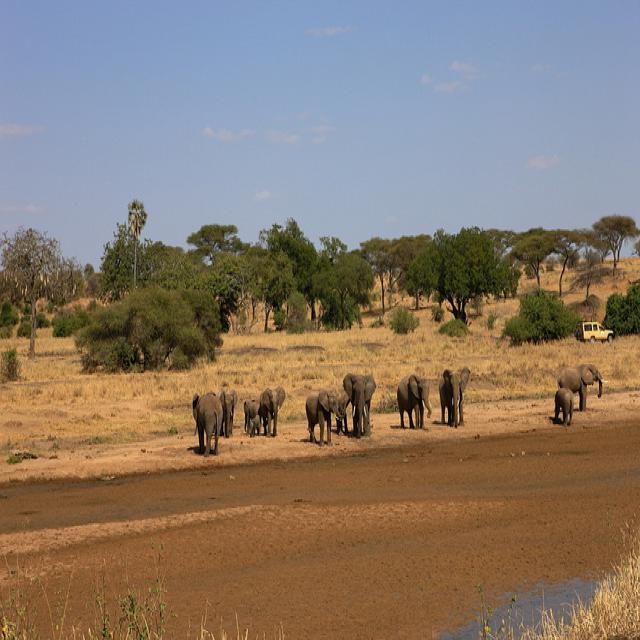Vehicle: (574, 321, 615, 344), (574, 320, 614, 342)
